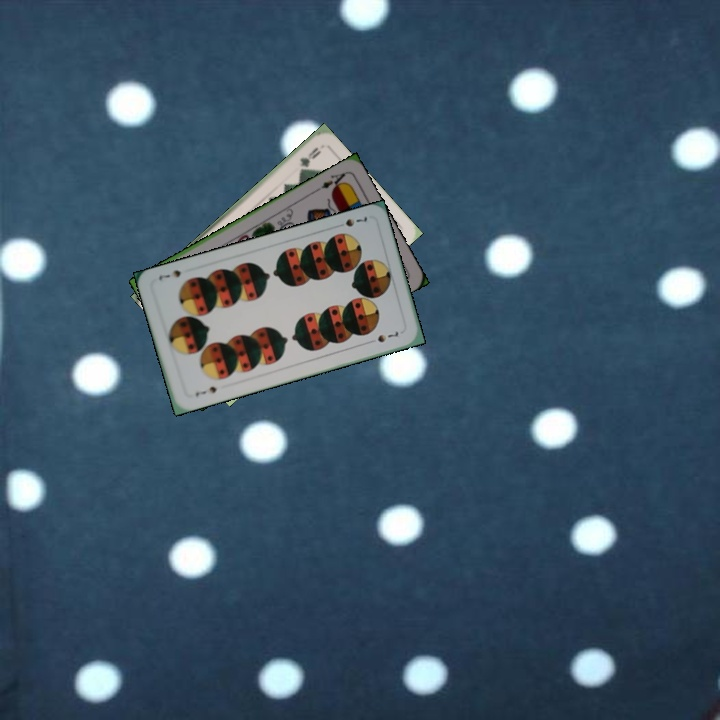EA: (317, 168, 350, 192)
G9: (295, 143, 324, 174)
S7: (332, 212, 370, 230), (191, 382, 220, 399)
